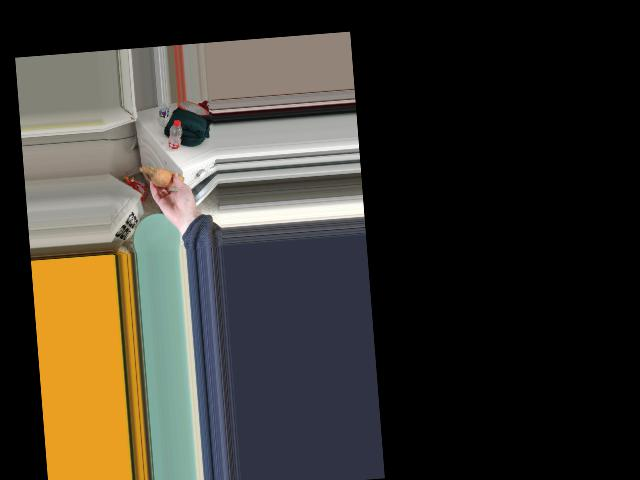sweet_potato: (151, 166, 179, 187)
